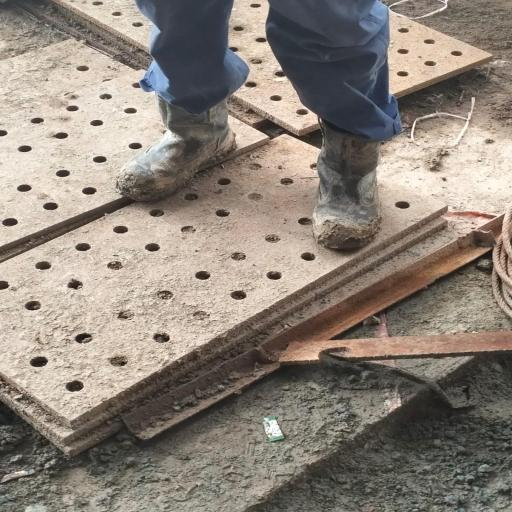safety_shoe: (104, 90, 242, 197), (314, 132, 384, 246)
